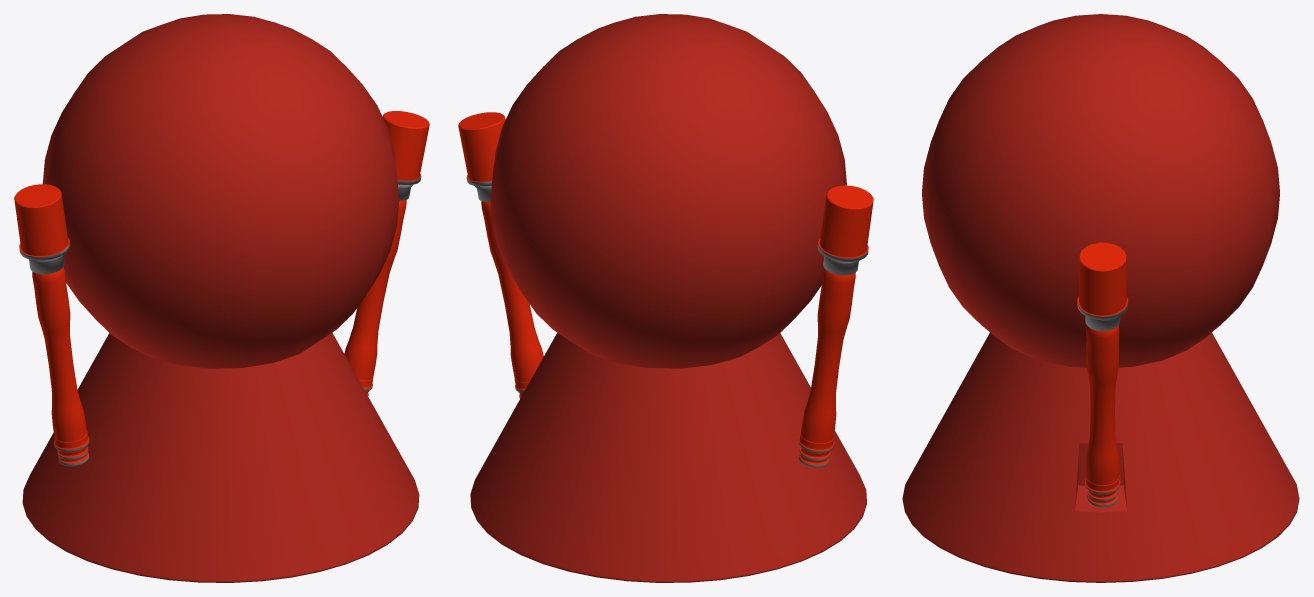
Rendered from Gre_Red.fbx.
3 views of the same model, side by side, from view 1: azimuth 30°, elevation 25°; view 2: azimuth 150°, elevation 25°; view 3: azimuth 270°, elevation 25° (orthographic).
Visible parts, largest first — view 1: polySurface7, polySurface11, polySurface8, polySurface9, polySurface12, polySurface13, polySurface10; view 2: polySurface7, polySurface11, polySurface8, polySurface9, polySurface12, polySurface13, polySurface10; view 3: polySurface7, polySurface11, polySurface12, polySurface13, polySurface14.
Boxes of the visible parts, x1=… form: polySurface7: x1=42, y1=14, x2=399, y2=368; polySurface11: x1=22, y1=332, x2=419, y2=582; polySurface8: x1=32, y1=267, x2=86, y2=441; polySurface9: x1=14, y1=184, x2=70, y2=274; polySurface12: x1=344, y1=200, x2=406, y2=380; polySurface13: x1=382, y1=111, x2=429, y2=200; polySurface10: x1=54, y1=431, x2=89, y2=466; polySurface7: x1=490, y1=14, x2=846, y2=368; polySurface11: x1=470, y1=333, x2=866, y2=582; polySurface8: x1=801, y1=268, x2=855, y2=443; polySurface9: x1=817, y1=185, x2=873, y2=275; polySurface12: x1=481, y1=201, x2=543, y2=381; polySurface13: x1=458, y1=112, x2=505, y2=201; polySurface10: x1=798, y1=432, x2=833, y2=467; polySurface7: x1=922, y1=14, x2=1279, y2=367; polySurface11: x1=902, y1=332, x2=1299, y2=582; polySurface12: x1=1086, y1=325, x2=1119, y2=485; polySurface13: x1=1077, y1=242, x2=1128, y2=331; polySurface14: x1=1085, y1=475, x2=1120, y2=507.
Size of the model in its own units: 93.4 by 102 by 78.53.
